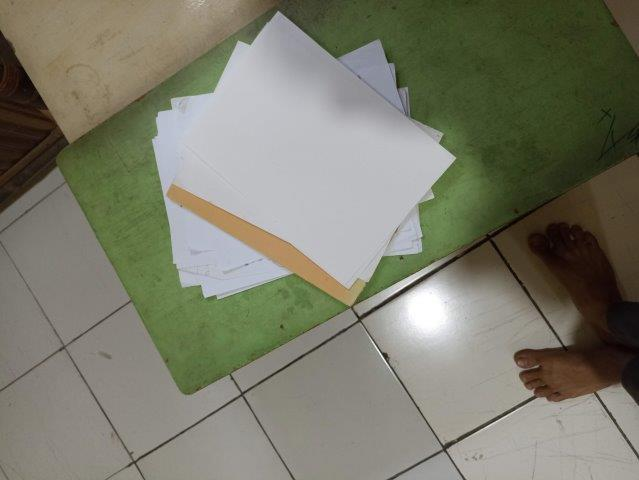kertas: (152, 11, 458, 305)
